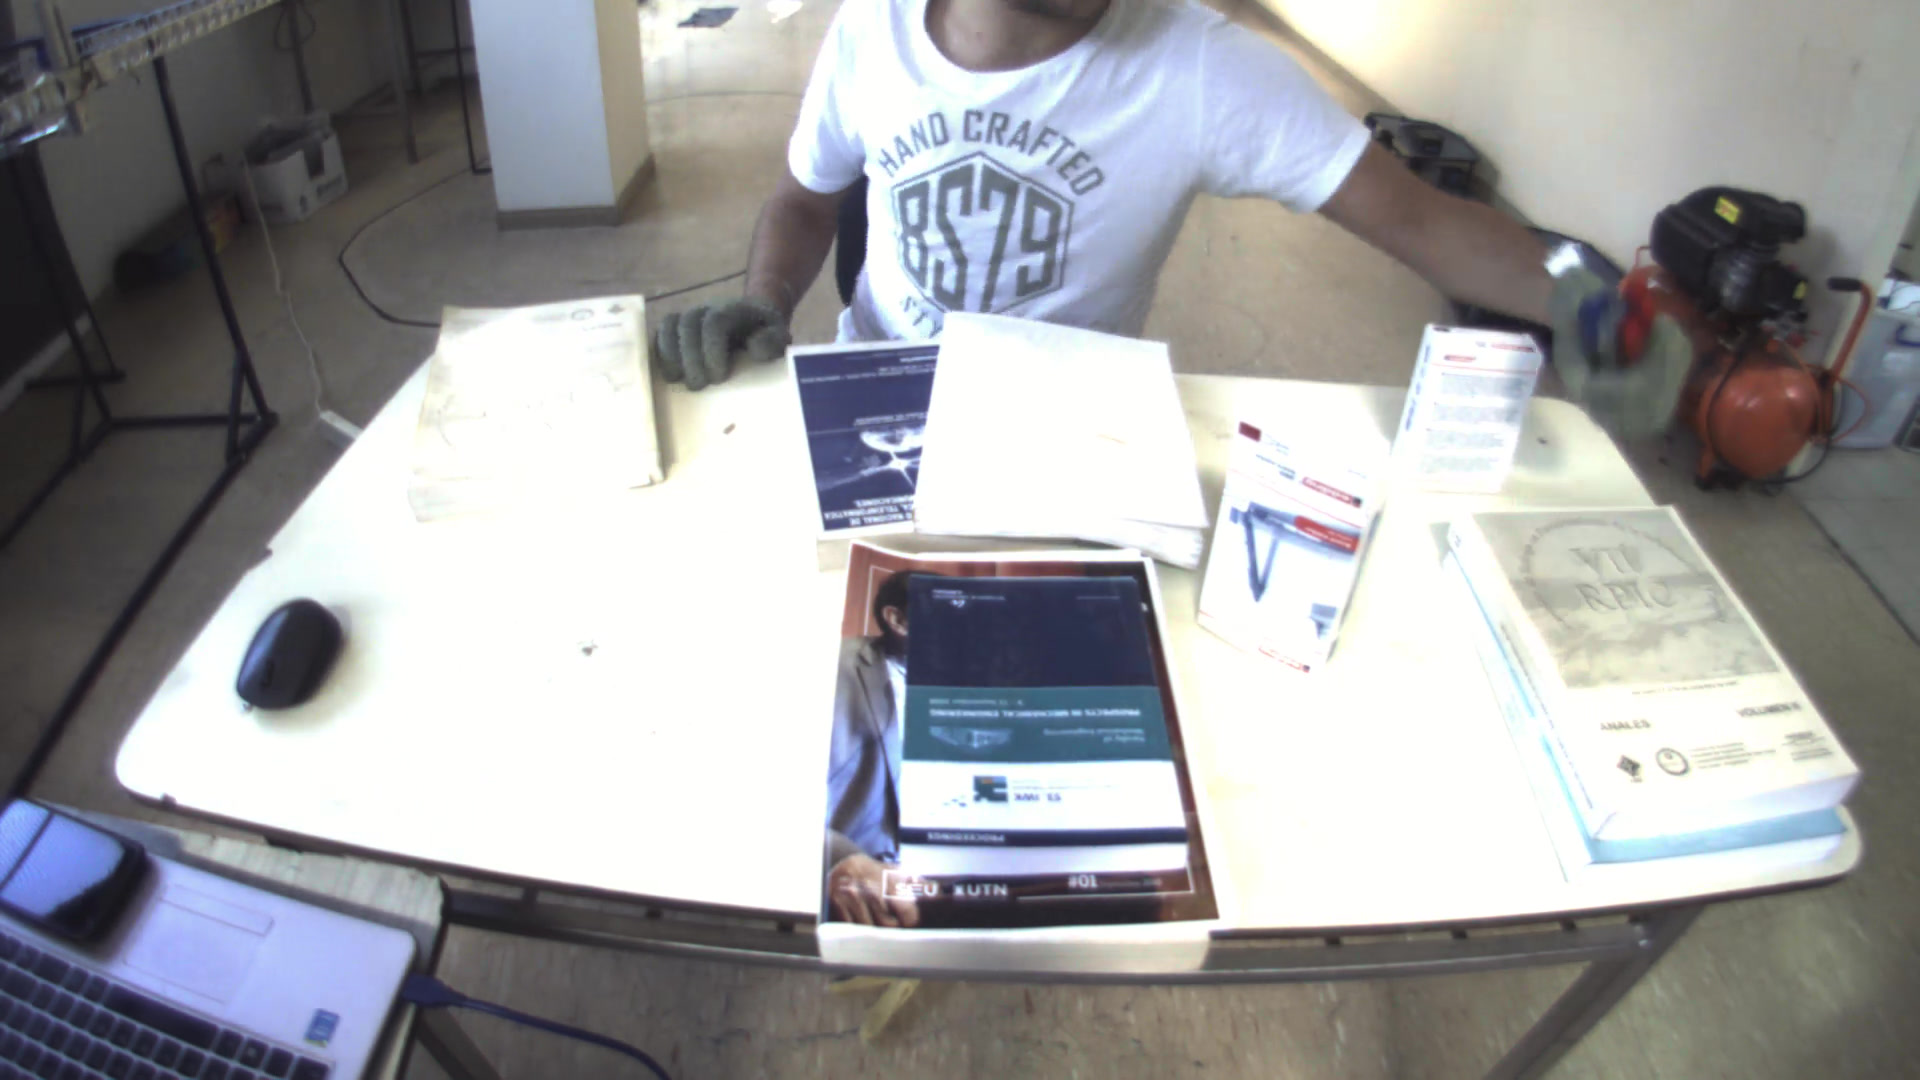hand: (1544, 261, 1692, 448), (629, 289, 793, 378)
